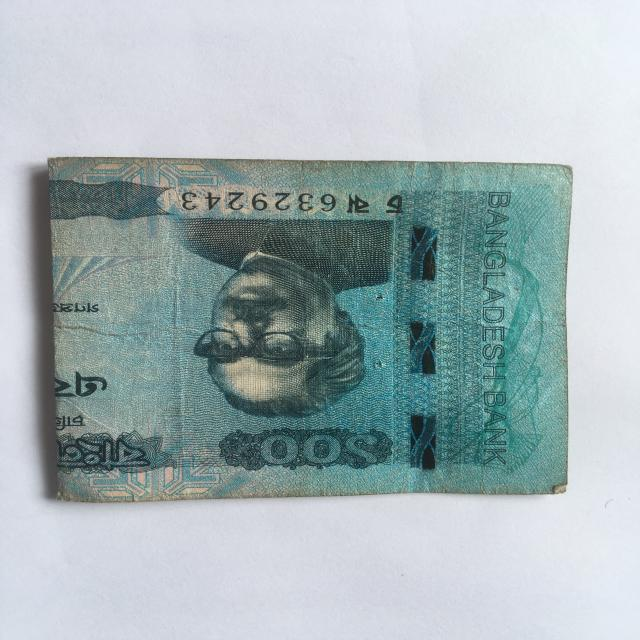Taka: (49, 151, 581, 501)
